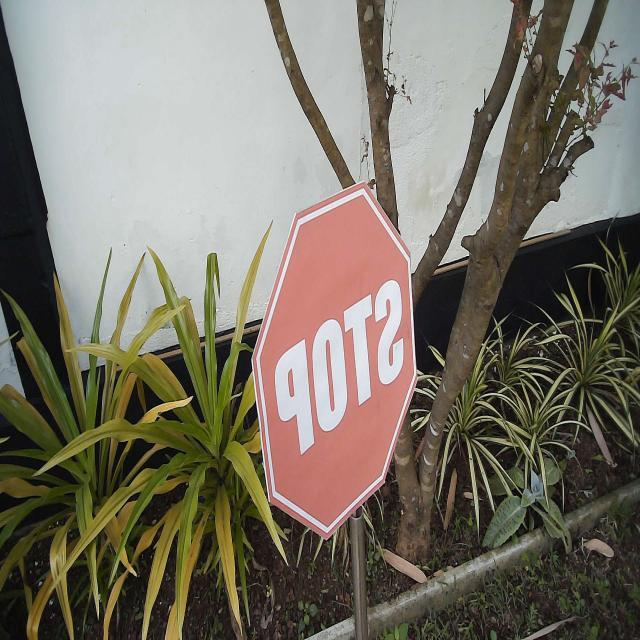stop: (249, 178, 420, 544)
